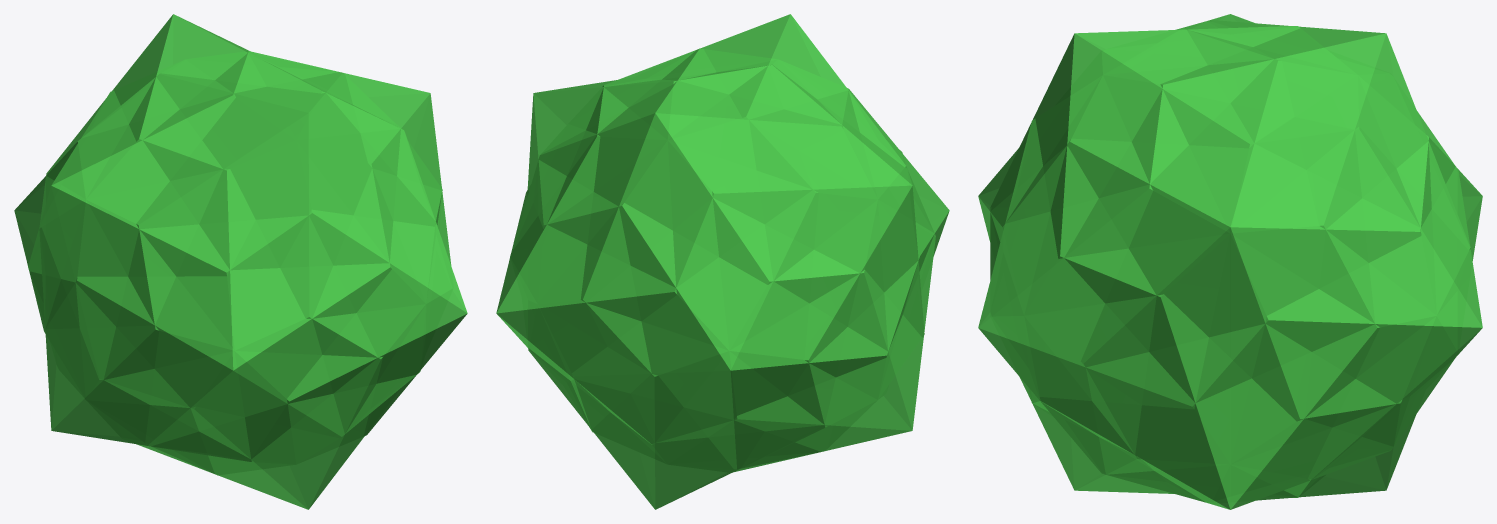
Rendered from MedialPentagonalHexecontahedron.obj.
3 renders of one model, left to right at view 1: azimuth 30°, elevation 25°; view 2: azimuth 150°, elevation 25°; view 3: azimuth 270°, elevation 25°, orthographic. The views are drawn at different scales.
Size of the model in its own units: 2.46 by 2.46 by 2.46.
